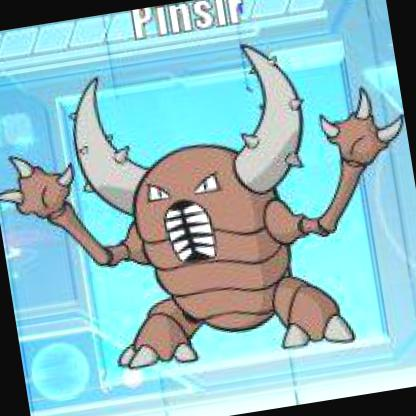Pinsir: (10, 17, 415, 415)
